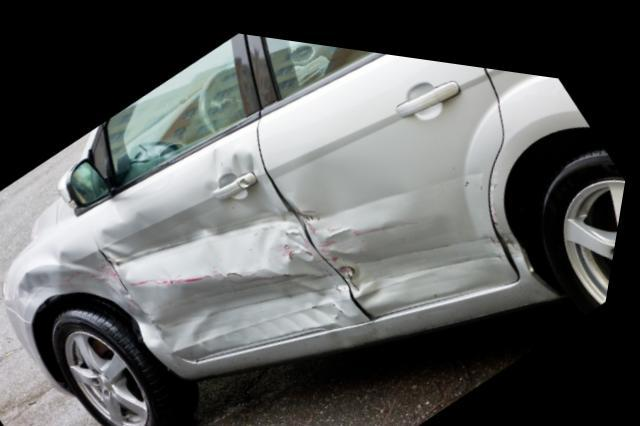dent: (108, 138, 373, 343), (295, 159, 511, 295), (29, 242, 167, 338)
